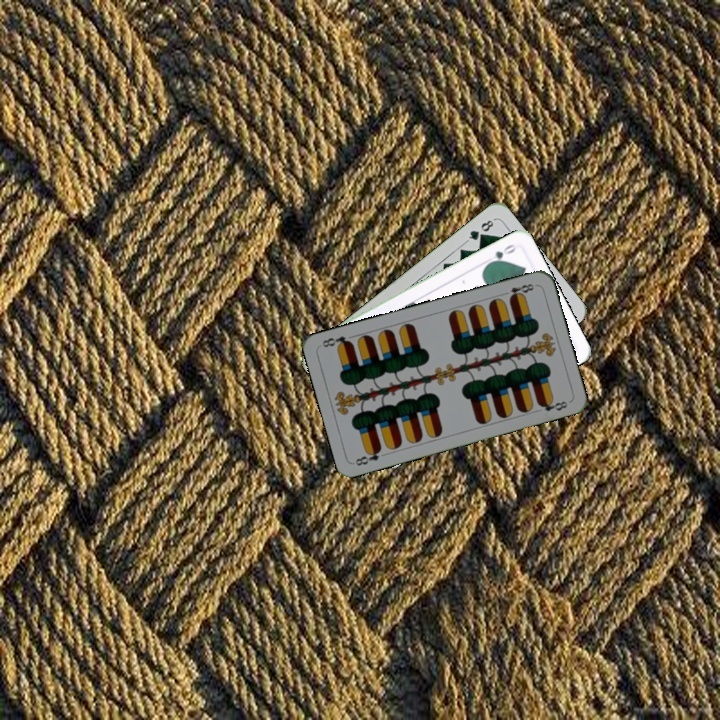E8: (498, 280, 537, 302), (351, 444, 384, 468)
G8: (463, 215, 497, 245)
GO: (483, 240, 519, 268)
